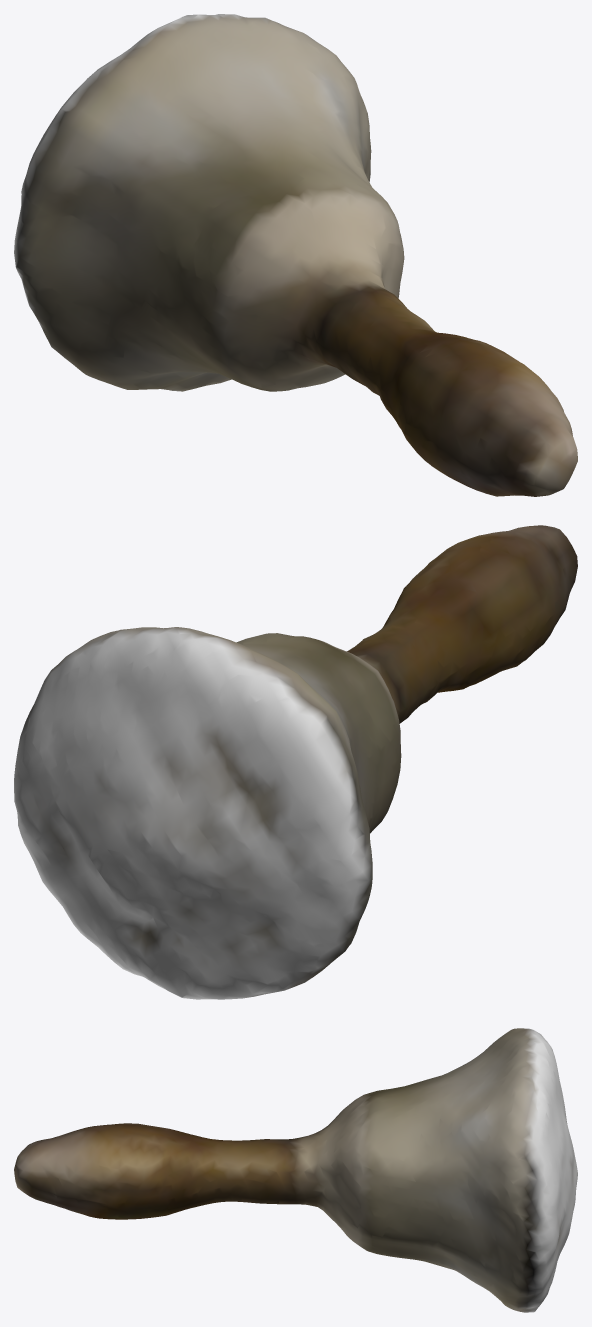
File: bell.glb
The picture shows the model from 3 angles, top to bottom: view 1: azimuth 30°, elevation 25°; view 2: azimuth 150°, elevation 25°; view 3: azimuth 270°, elevation 25°; orthographic projection. The views are drawn at different scales.
Bounding box in the file's own units: 0.5098 × 0.506 × 0.9996.
